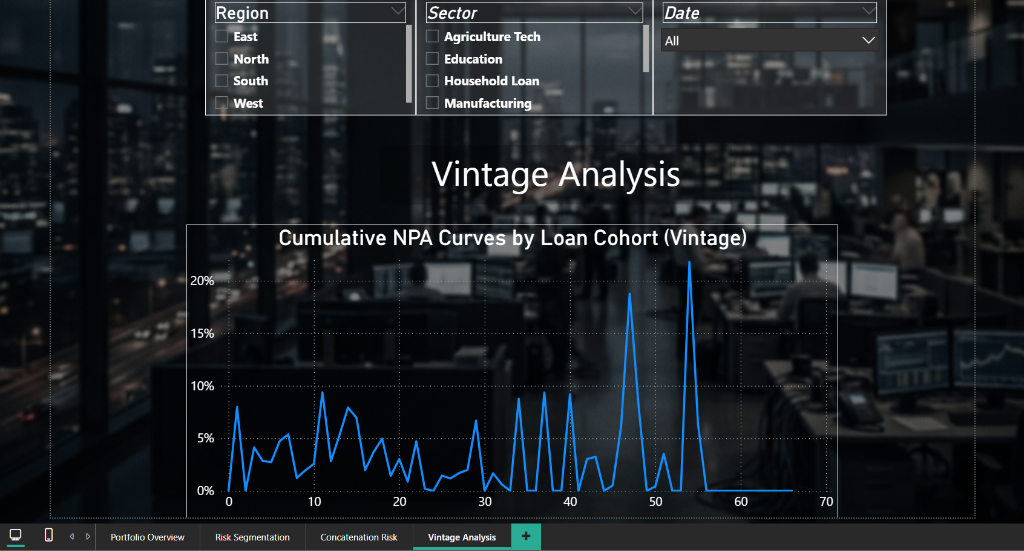

The page's visual inventory and layout, read from the dashboard file:
{"tool":"powerbi","page":{"name":"Vintage Analysis","canvas":[1280,720],"ordinal":3},"visuals":[{"type":"lineChart","title":"Cumulative NPA Curves by Loan Cohort (Vintage)","fields":{"Y":["MSME_Loan_Portfolio.NPA_%"],"Category":["MSME_Loan_Portfolio.Months_on_Book"]},"box":[189.7,136.9,901.8,407.1],"z":0}]}

Visuals, with their boxes on the page's 1280x720 design canvas (x1, y1, x2, y2). These are canvas units, not pixel positions in the 1024x551 screenshot, which may show the page scaled, cropped or inside an application window:
"Cumulative NPA Curves by Loan Cohort (Vintage)" lineChart: 190 137 1092 544
